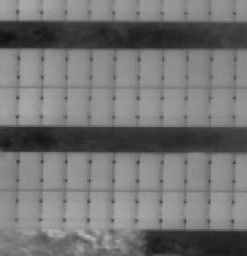solar: (15, 47, 45, 89), (39, 47, 69, 89), (63, 47, 93, 89), (87, 47, 117, 89), (111, 47, 141, 89), (136, 47, 166, 89), (160, 47, 190, 89), (183, 47, 213, 89), (209, 47, 239, 89), (206, 85, 236, 127), (182, 85, 212, 127), (159, 85, 189, 127), (135, 85, 165, 127), (110, 85, 140, 127), (87, 85, 117, 127), (62, 85, 92, 127), (38, 85, 68, 127), (14, 85, 44, 127), (15, 149, 45, 191), (38, 149, 68, 191), (62, 149, 92, 191), (86, 149, 116, 191), (111, 151, 141, 193), (135, 151, 165, 193), (158, 151, 188, 193), (182, 151, 212, 193), (207, 151, 237, 193), (206, 188, 236, 230), (181, 189, 211, 231), (158, 189, 188, 231), (133, 189, 163, 231), (109, 189, 139, 231), (86, 189, 116, 231), (62, 189, 92, 231), (38, 189, 68, 231), (14, 189, 44, 231)
